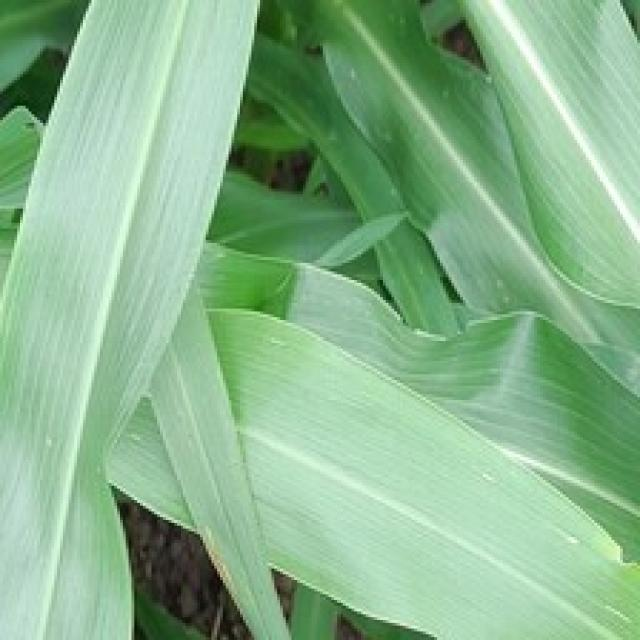Corn: (0, 0, 637, 637), (0, 0, 286, 637), (203, 300, 637, 637)
